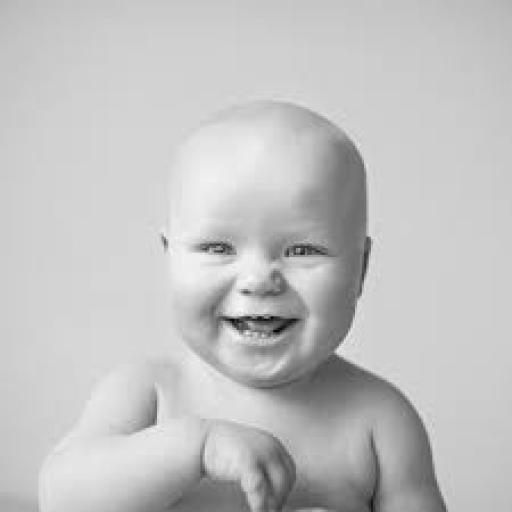laughing: (34, 88, 469, 510)
